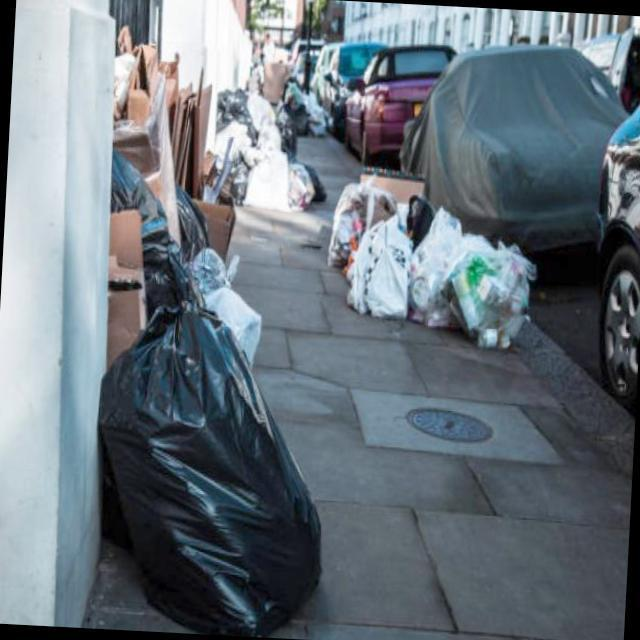garbage: (50, 0, 338, 640), (330, 149, 544, 363)
